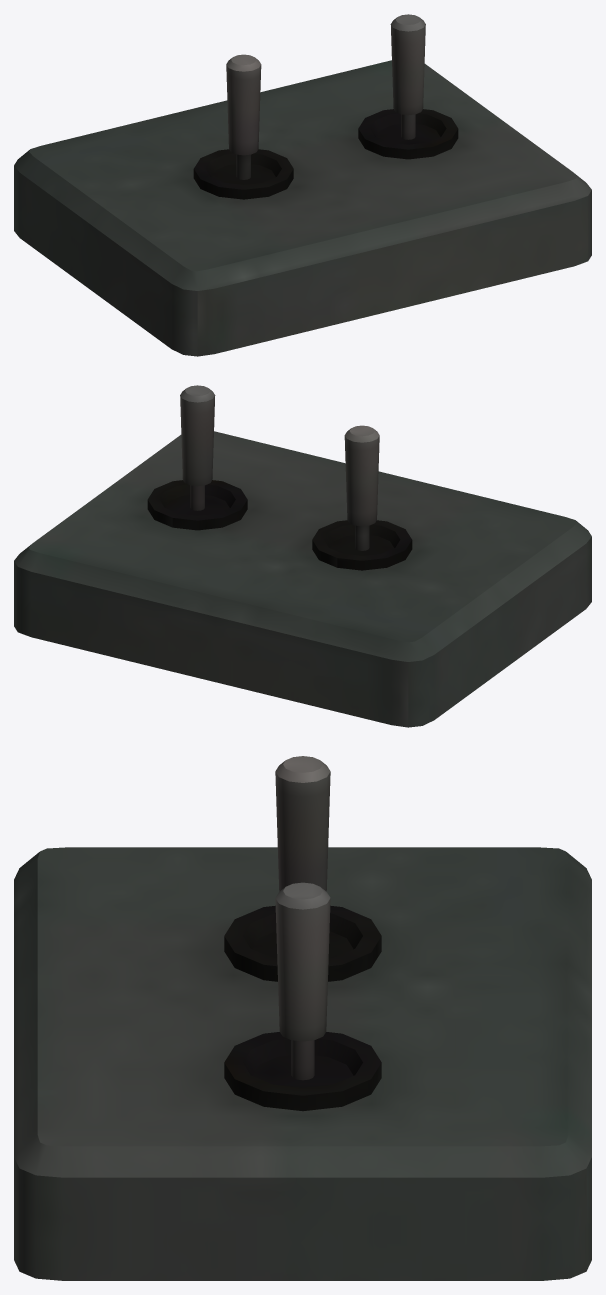
File: Buttons_02.FBX
3 renders of one model, top to bottom at view 1: azimuth 30°, elevation 25°; view 2: azimuth 150°, elevation 25°; view 3: azimuth 270°, elevation 25°, orthographic. The views are drawn at different scales.
Visible parts, largest first — view 1: Buttons_02; view 2: Buttons_02; view 3: Buttons_02.
Boxes of the visible parts, x1=… form: Buttons_02: x1=14, y1=14, x2=591, y2=356; Buttons_02: x1=14, y1=385, x2=591, y2=727; Buttons_02: x1=14, y1=756, x2=591, y2=1280.
Size of the model in its own units: 15.27 by 6.96 by 11.7.
